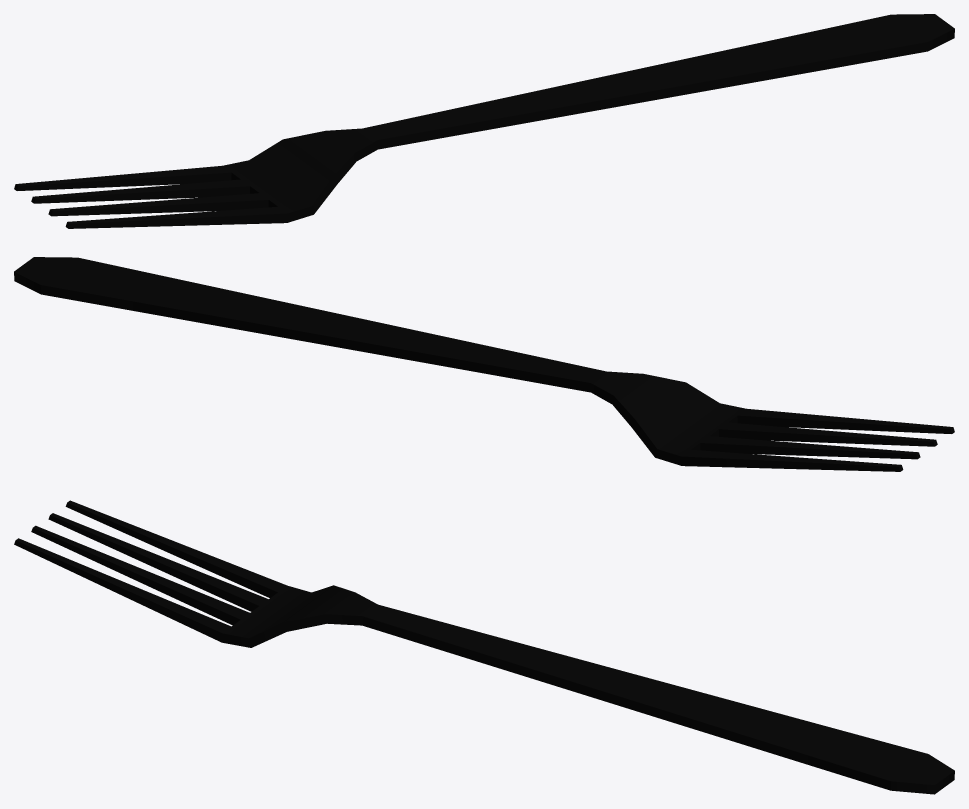
Rendered from Fork.FBX.
3 views of the same model, one above another, from view 1: azimuth 30°, elevation 25°; view 2: azimuth 150°, elevation 25°; view 3: azimuth 330°, elevation 25° (orthographic).
Visible parts, largest first — view 1: Fork; view 2: Fork; view 3: Fork.
Part boxes in pixels (x1,y1,x2,y2): Fork: (14,14,954,228); Fork: (14,257,954,471); Fork: (14,500,954,794).
Size of the model in its own units: 20.01 by 0.9912 by 2.5.
